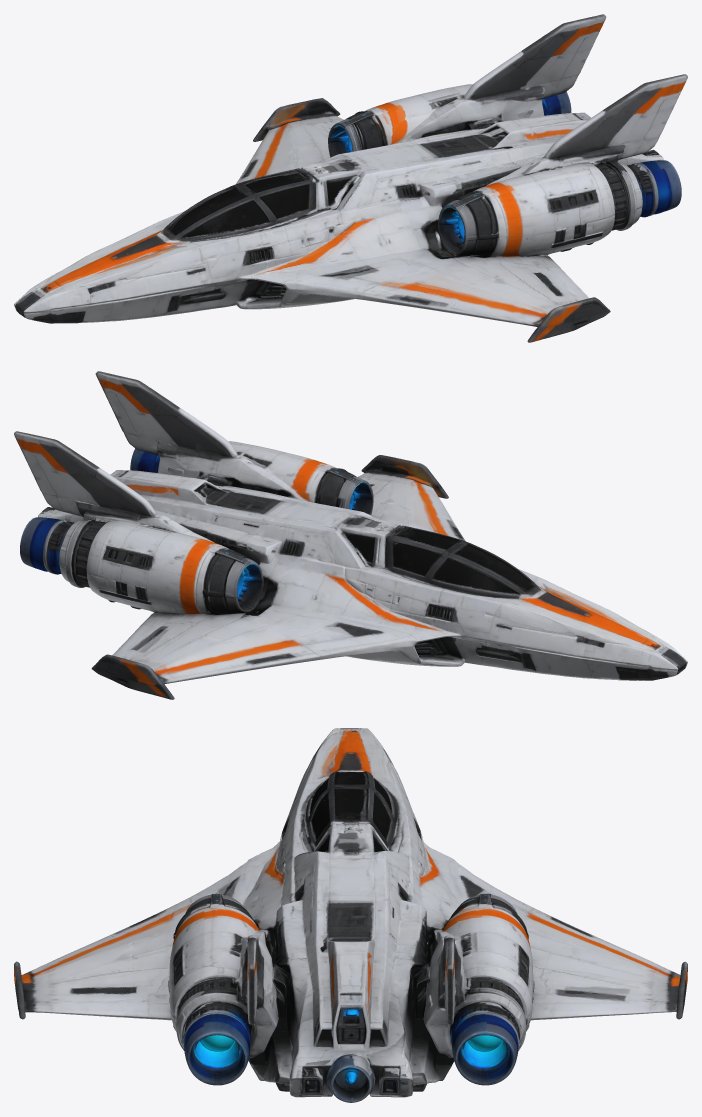
The model's file is spaceship.glb.
3 renders of one model, top to bottom at view 1: azimuth 30°, elevation 25°; view 2: azimuth 150°, elevation 25°; view 3: azimuth 270°, elevation 25°, orthographic. The views are drawn at different scales.
Visible parts, largest first — view 1: spaceship; view 2: spaceship; view 3: spaceship.
Boxes of the visible parts, <box> form: spaceship: <box>14,14,687,342</box>; spaceship: <box>14,371,687,699</box>; spaceship: <box>14,728,687,1102</box>.
Size of the model in its own units: 14 by 3.37 by 10.71.
Materials: 1 (1 with a texture image).
